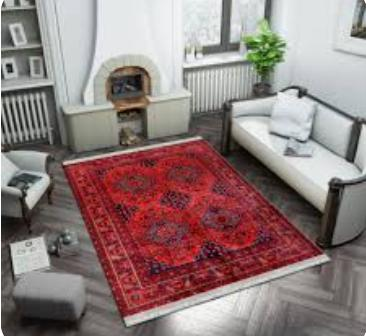carpet: (63, 99, 323, 320)
